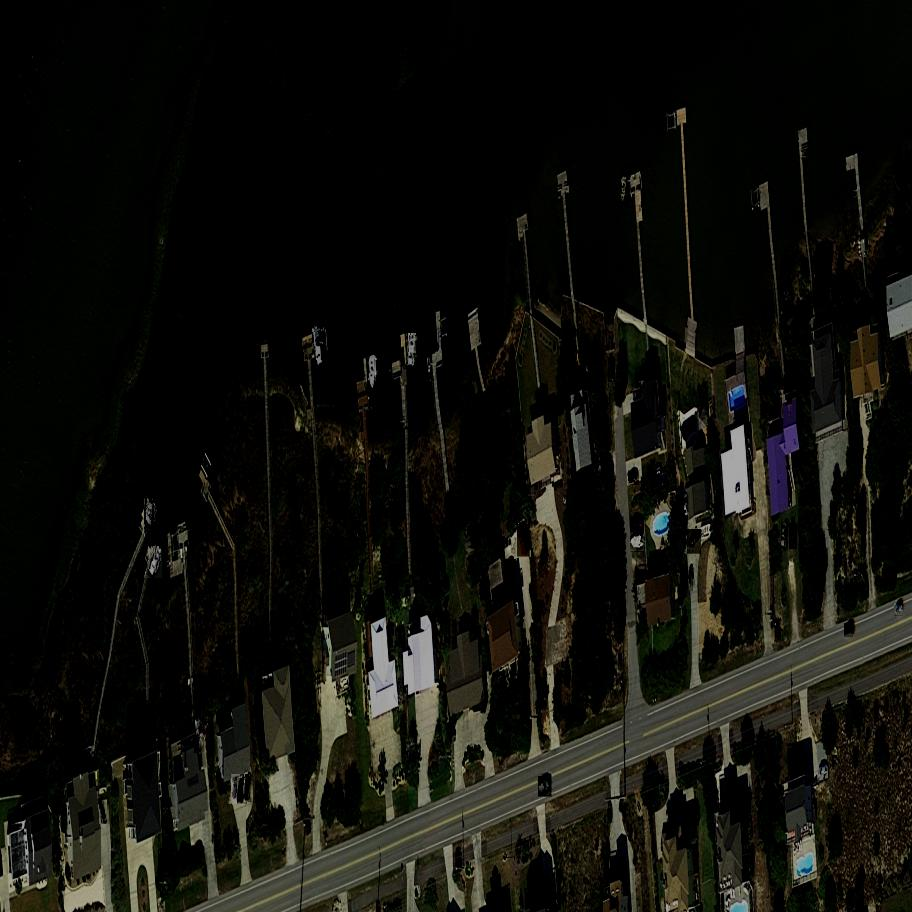ship: (147, 546, 164, 579), (313, 325, 325, 369), (407, 333, 418, 369), (144, 497, 155, 528), (195, 718, 205, 752), (621, 174, 630, 207), (630, 534, 645, 551), (370, 356, 375, 393)
small-vehicle: (683, 530, 706, 554), (516, 524, 532, 557), (537, 776, 554, 797), (231, 774, 240, 805), (630, 515, 644, 534), (245, 774, 254, 803), (99, 798, 109, 824), (238, 778, 247, 805), (789, 523, 798, 549), (627, 470, 641, 486), (782, 522, 790, 549), (504, 557, 516, 575), (817, 763, 829, 780), (608, 357, 615, 382), (683, 493, 689, 518), (894, 602, 903, 615), (844, 625, 852, 637), (689, 568, 692, 590)
